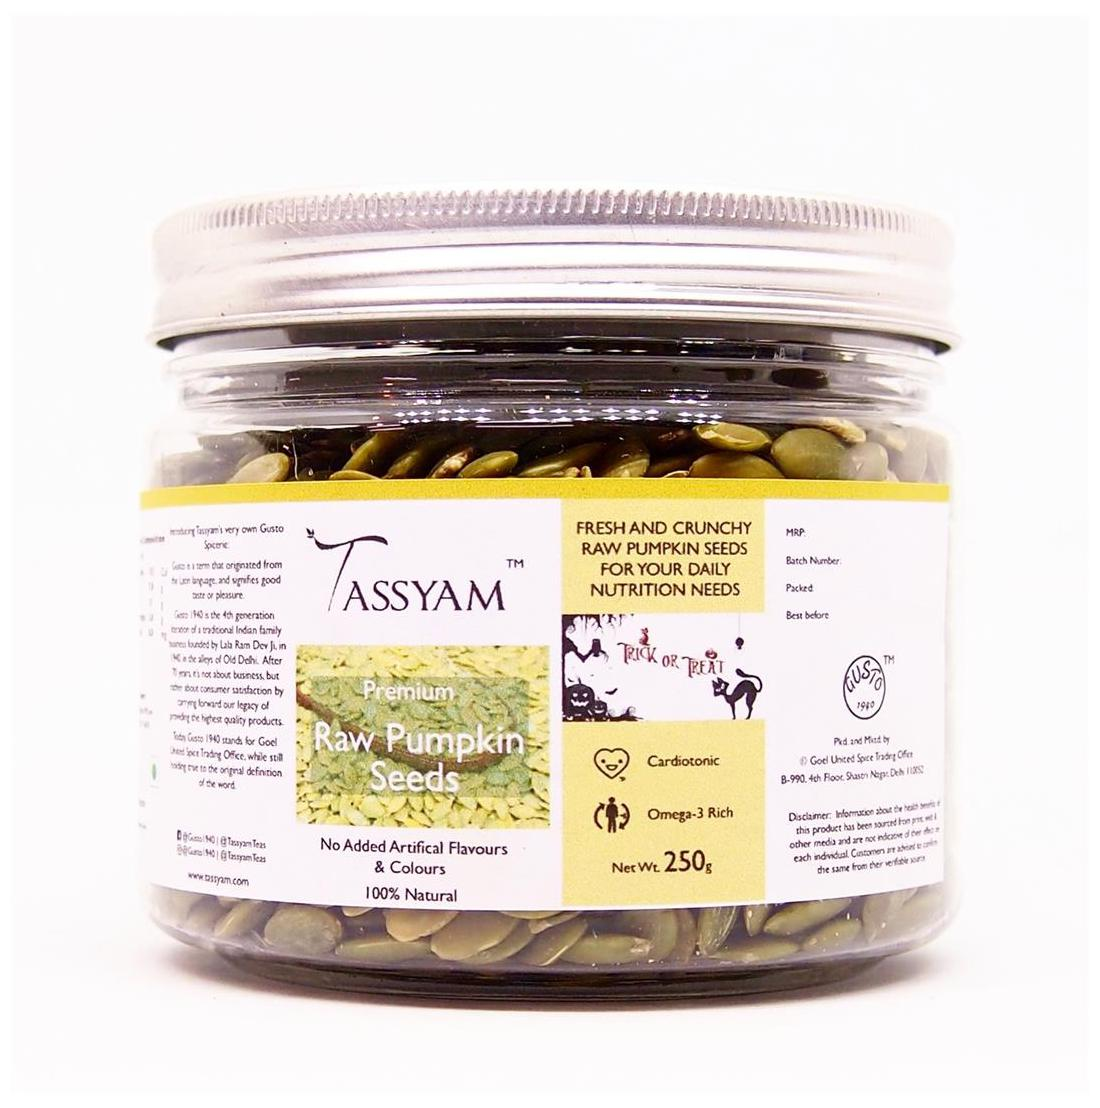JAR: (125, 175, 967, 1017)
